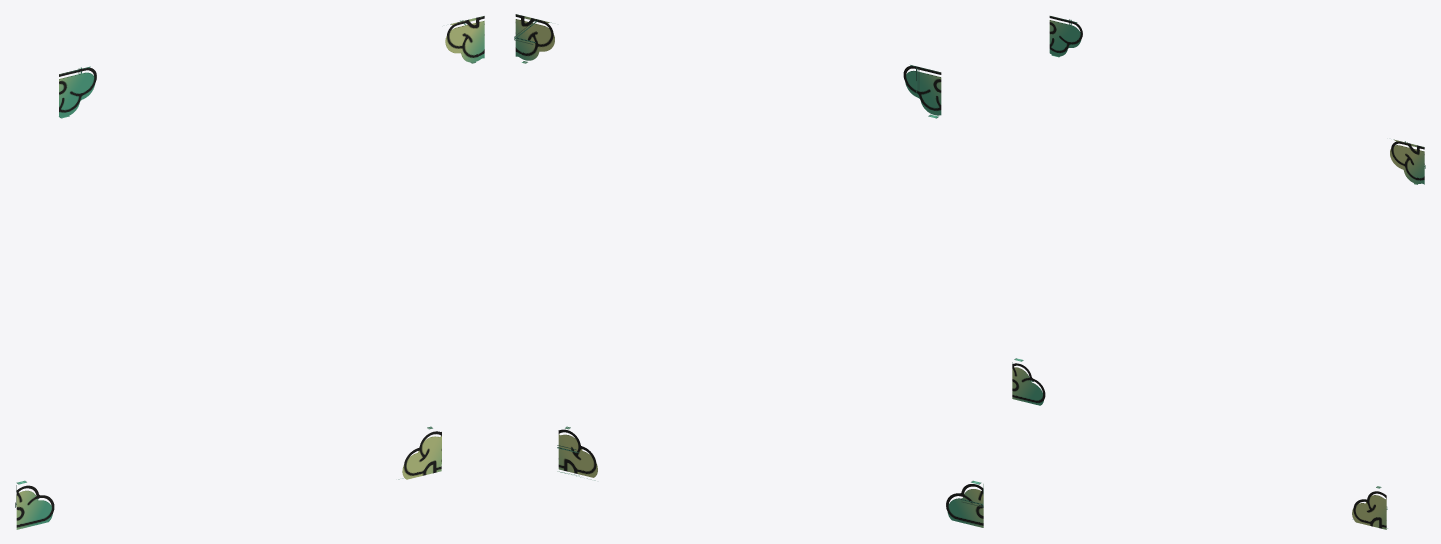
The model's file is panel.gltf.
3 views of the same model, side by side, from view 1: azimuth 30°, elevation 25°; view 2: azimuth 150°, elevation 25°; view 3: azimuth 330°, elevation 25° (orthographic). The views are drawn at different scales.
Parts seen in each view (by area): view 1: Cube.002_cell.006, Cube.002_cell, Cube.002_cell.007, Cube.002_cell.003; view 2: Cube.002_cell.006, Cube.002_cell, Cube.002_cell.007, Cube.002_cell.003; view 3: Cube.002_cell.006, Cube.002_cell.007, Cube.002_cell, Cube.002_cell.003.
Part boxes in pixels (box(x1,y1,x2,y2)): Cube.002_cell.006: box(445, 16, 484, 63); Cube.002_cell: box(398, 426, 441, 479); Cube.002_cell.007: box(59, 66, 96, 118); Cube.002_cell.003: box(15, 480, 54, 529); Cube.002_cell.006: box(514, 14, 554, 63); Cube.002_cell: box(557, 426, 597, 480); Cube.002_cell.007: box(903, 65, 941, 118); Cube.002_cell.003: box(946, 480, 983, 527); Cube.002_cell.006: box(1390, 139, 1425, 184); Cube.002_cell.007: box(1049, 16, 1082, 57); Cube.002_cell: box(1352, 486, 1387, 529); Cube.002_cell.003: box(1012, 358, 1045, 405).
Size of the model in its own units: 10.91 by 10.92 by 0.1.
Materials: 1 (1 with a texture image).
